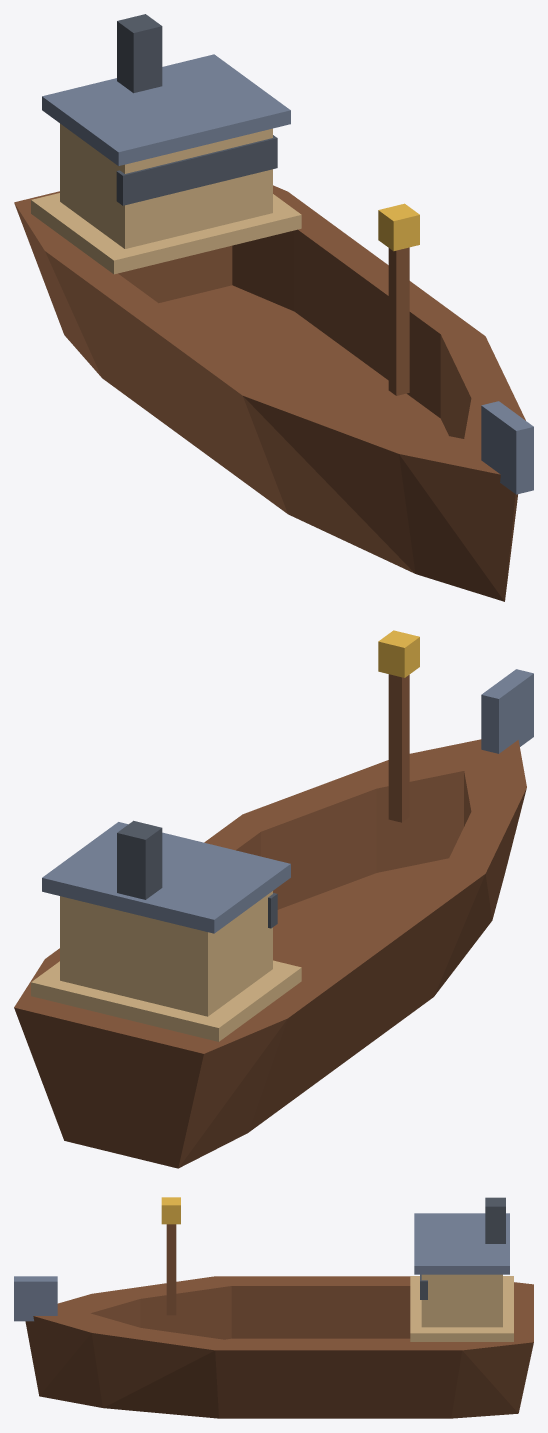
Rendered from SM_Harbor_Launch.fbx.
The picture shows the model from 3 angles, top to bottom: view 1: azimuth 30°, elevation 25°; view 2: azimuth 150°, elevation 25°; view 3: azimuth 270°, elevation 25°; orthographic projection. The views are drawn at different scales.
Visible parts, largest first — view 1: SM_Harbor_Launch; view 2: SM_Harbor_Launch; view 3: SM_Harbor_Launch.
Boxes of the visible parts, <box> form: SM_Harbor_Launch: <box>14,14,533,601</box>; SM_Harbor_Launch: <box>14,630,533,1168</box>; SM_Harbor_Launch: <box>14,1197,533,1418</box>.
Bounding box in the file's own units: 220 × 270 × 652.
